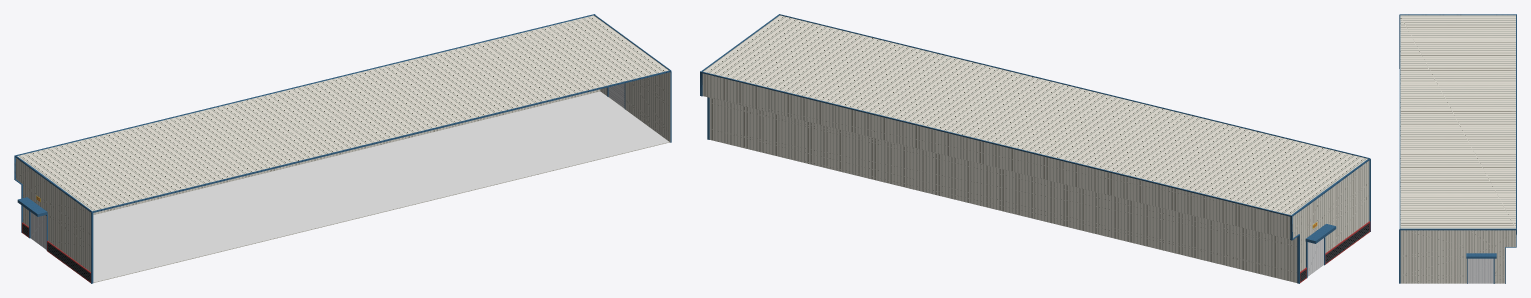
The picture shows the model from 3 angles, left to right: view 1: azimuth 30°, elevation 25°; view 2: azimuth 150°, elevation 25°; view 3: azimuth 270°, elevation 25°; orthographic projection. The views are drawn at different scales.
Parts seen in each view (by area): view 1: 对象497, 对象496, Box178, 图形032, 对象495, 对象494; view 2: 对象497, Box178, 图形032, 对象495, 对象494; view 3: 对象497, Box178, 图形032, 对象495.
Boxes of the visible parts, left/top/right/bottom form: 对象497: left=17, top=15, right=668, bottom=211; 对象496: left=93, top=91, right=668, bottom=282; Box178: left=15, top=72, right=670, bottom=282; 图形032: left=14, top=14, right=671, bottom=283; 对象495: left=30, top=83, right=624, bottom=249; 对象494: left=22, top=224, right=90, bottom=281; 对象497: left=703, top=15, right=1367, bottom=214; Box178: left=702, top=73, right=1369, bottom=282; 图形032: left=700, top=14, right=1370, bottom=283; 对象495: left=1307, top=238, right=1323, bottom=276; 对象494: left=1300, top=223, right=1369, bottom=281; 对象497: left=1400, top=15, right=1515, bottom=228; Box178: left=1400, top=230, right=1515, bottom=283; 图形032: left=1399, top=14, right=1516, bottom=283; 对象495: left=1468, top=258, right=1493, bottom=283.
Size of the model in its own units: 253 by 29.11 by 56.84.
Materials: 7 (4 with a texture image).
